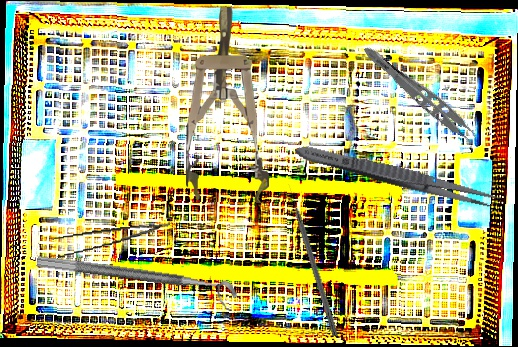Dressing Forceps: (292, 139, 504, 213)
Fixation Ring: (33, 254, 240, 312)
Hook Surgical: (285, 182, 340, 338)
Speculum: (186, 7, 269, 203)
Tissue Forceps: (354, 42, 488, 155), (50, 222, 173, 258)
